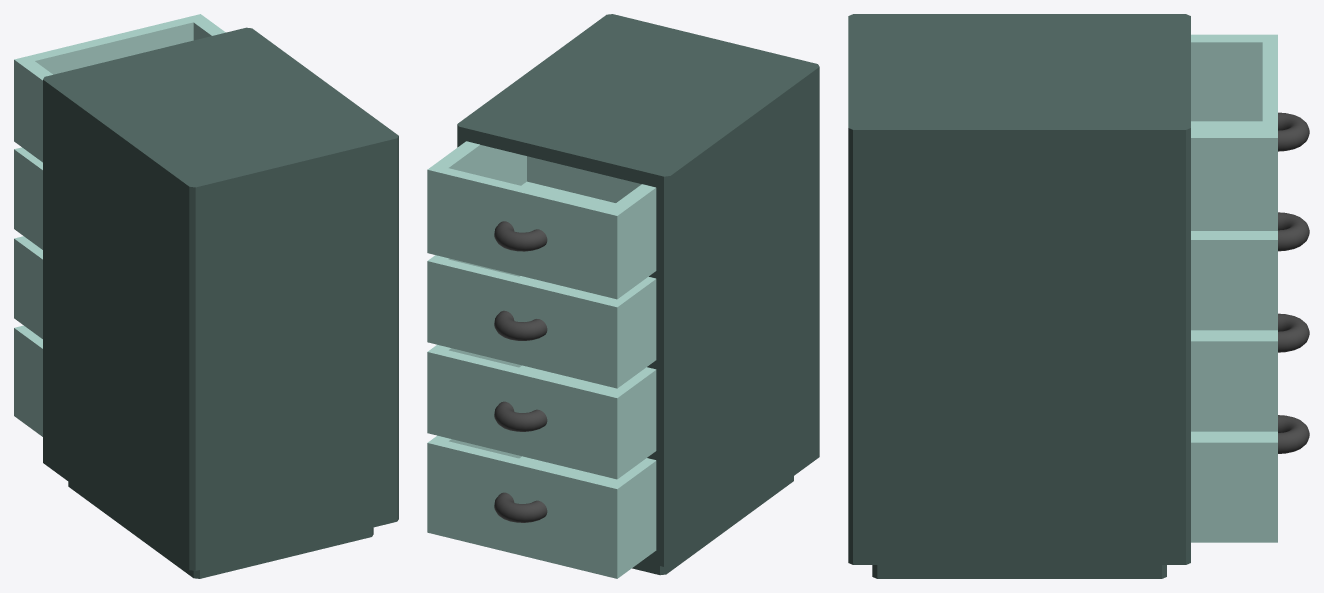
File: Cabinate.fbx
The picture shows the model from 3 angles, left to right: view 1: azimuth 30°, elevation 25°; view 2: azimuth 150°, elevation 25°; view 3: azimuth 270°, elevation 25°; orthographic projection. The views are drawn at different scales.
Visible parts, largest first — view 1: polySurface3, polySurface2, polySurface7, polySurface6, polySurface5; view 2: polySurface3, polySurface2, polySurface7, polySurface6, polySurface5, pTorus4, pTorus3, pTorus1, pTorus2; view 3: polySurface3, polySurface2, polySurface7, polySurface6, polySurface5, pTorus4, pTorus3, pTorus2, pTorus1.
Part boxes in pixels (x1,y1,x2,y2): polySurface3: (43,27,398,578); polySurface2: (14,14,225,162); polySurface7: (14,325,42,436); polySurface6: (14,236,42,338); polySurface5: (14,147,42,249); polySurface3: (457,14,819,575); polySurface2: (427,141,656,299); polySurface7: (427,435,656,578); polySurface6: (427,344,656,479); polySurface5: (427,255,656,388); pTorus4: (494,492,547,522); pTorus3: (494,401,547,431); pTorus1: (494,221,547,251); pTorus2: (494,310,547,340); polySurface3: (848,14,1190,578); polySurface2: (1191,34,1277,230); polySurface7: (1191,431,1277,542); polySurface6: (1191,330,1277,431); polySurface5: (1191,231,1277,330); pTorus4: (1278,415,1309,453); pTorus3: (1278,313,1309,352); pTorus2: (1278,212,1309,251); pTorus1: (1278,112,1309,151).
Size of the model in its own units: 4 by 7.36 by 6.73.
